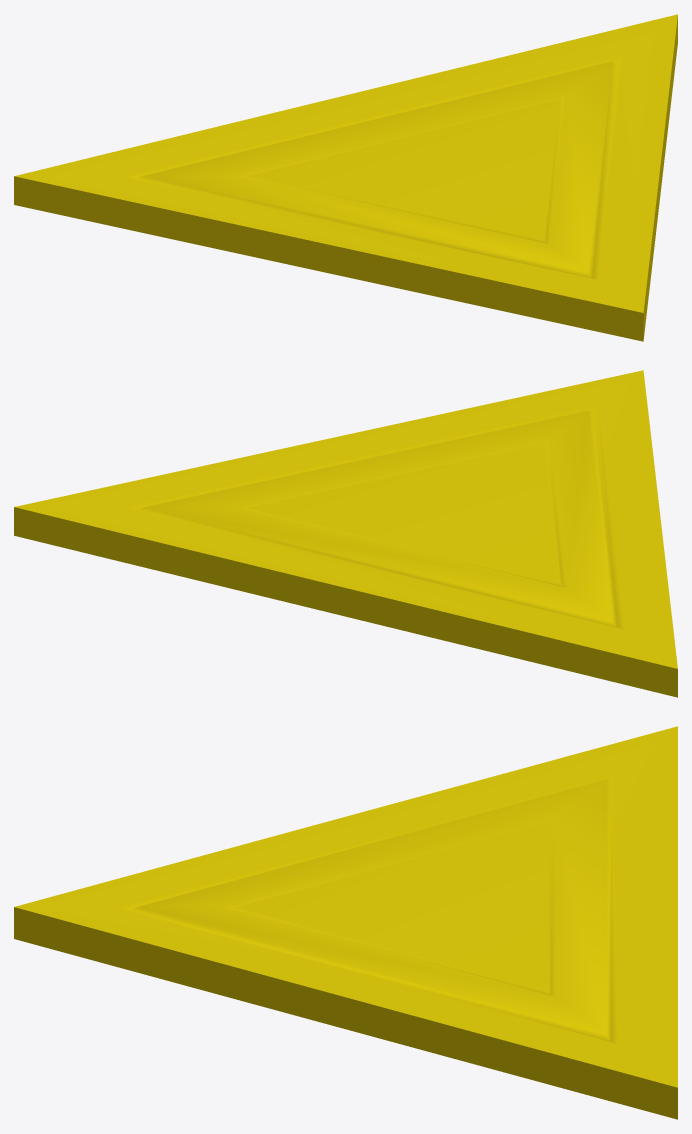
The model's file is Triangle_Board.fbx.
The picture shows the model from 3 angles, top to bottom: view 1: azimuth 30°, elevation 25°; view 2: azimuth 150°, elevation 25°; view 3: azimuth 270°, elevation 25°; orthographic projection. The views are drawn at different scales.
Visible parts, largest first — view 1: Triangle_Board; view 2: Triangle_Board; view 3: Triangle_Board.
Boxes of the visible parts, bbox=[...] form: Triangle_Board: bbox=[14, 14, 677, 341]; Triangle_Board: bbox=[14, 370, 677, 697]; Triangle_Board: bbox=[14, 726, 677, 1119].
Bounding box in the file's own units: 101 × 4.17 × 78.51.
